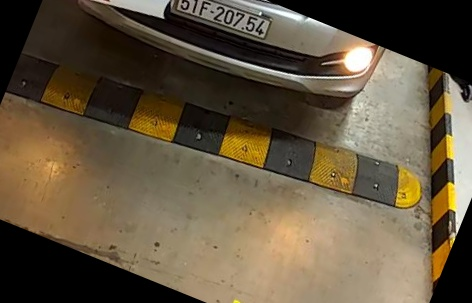plate: (168, 0, 281, 42)
